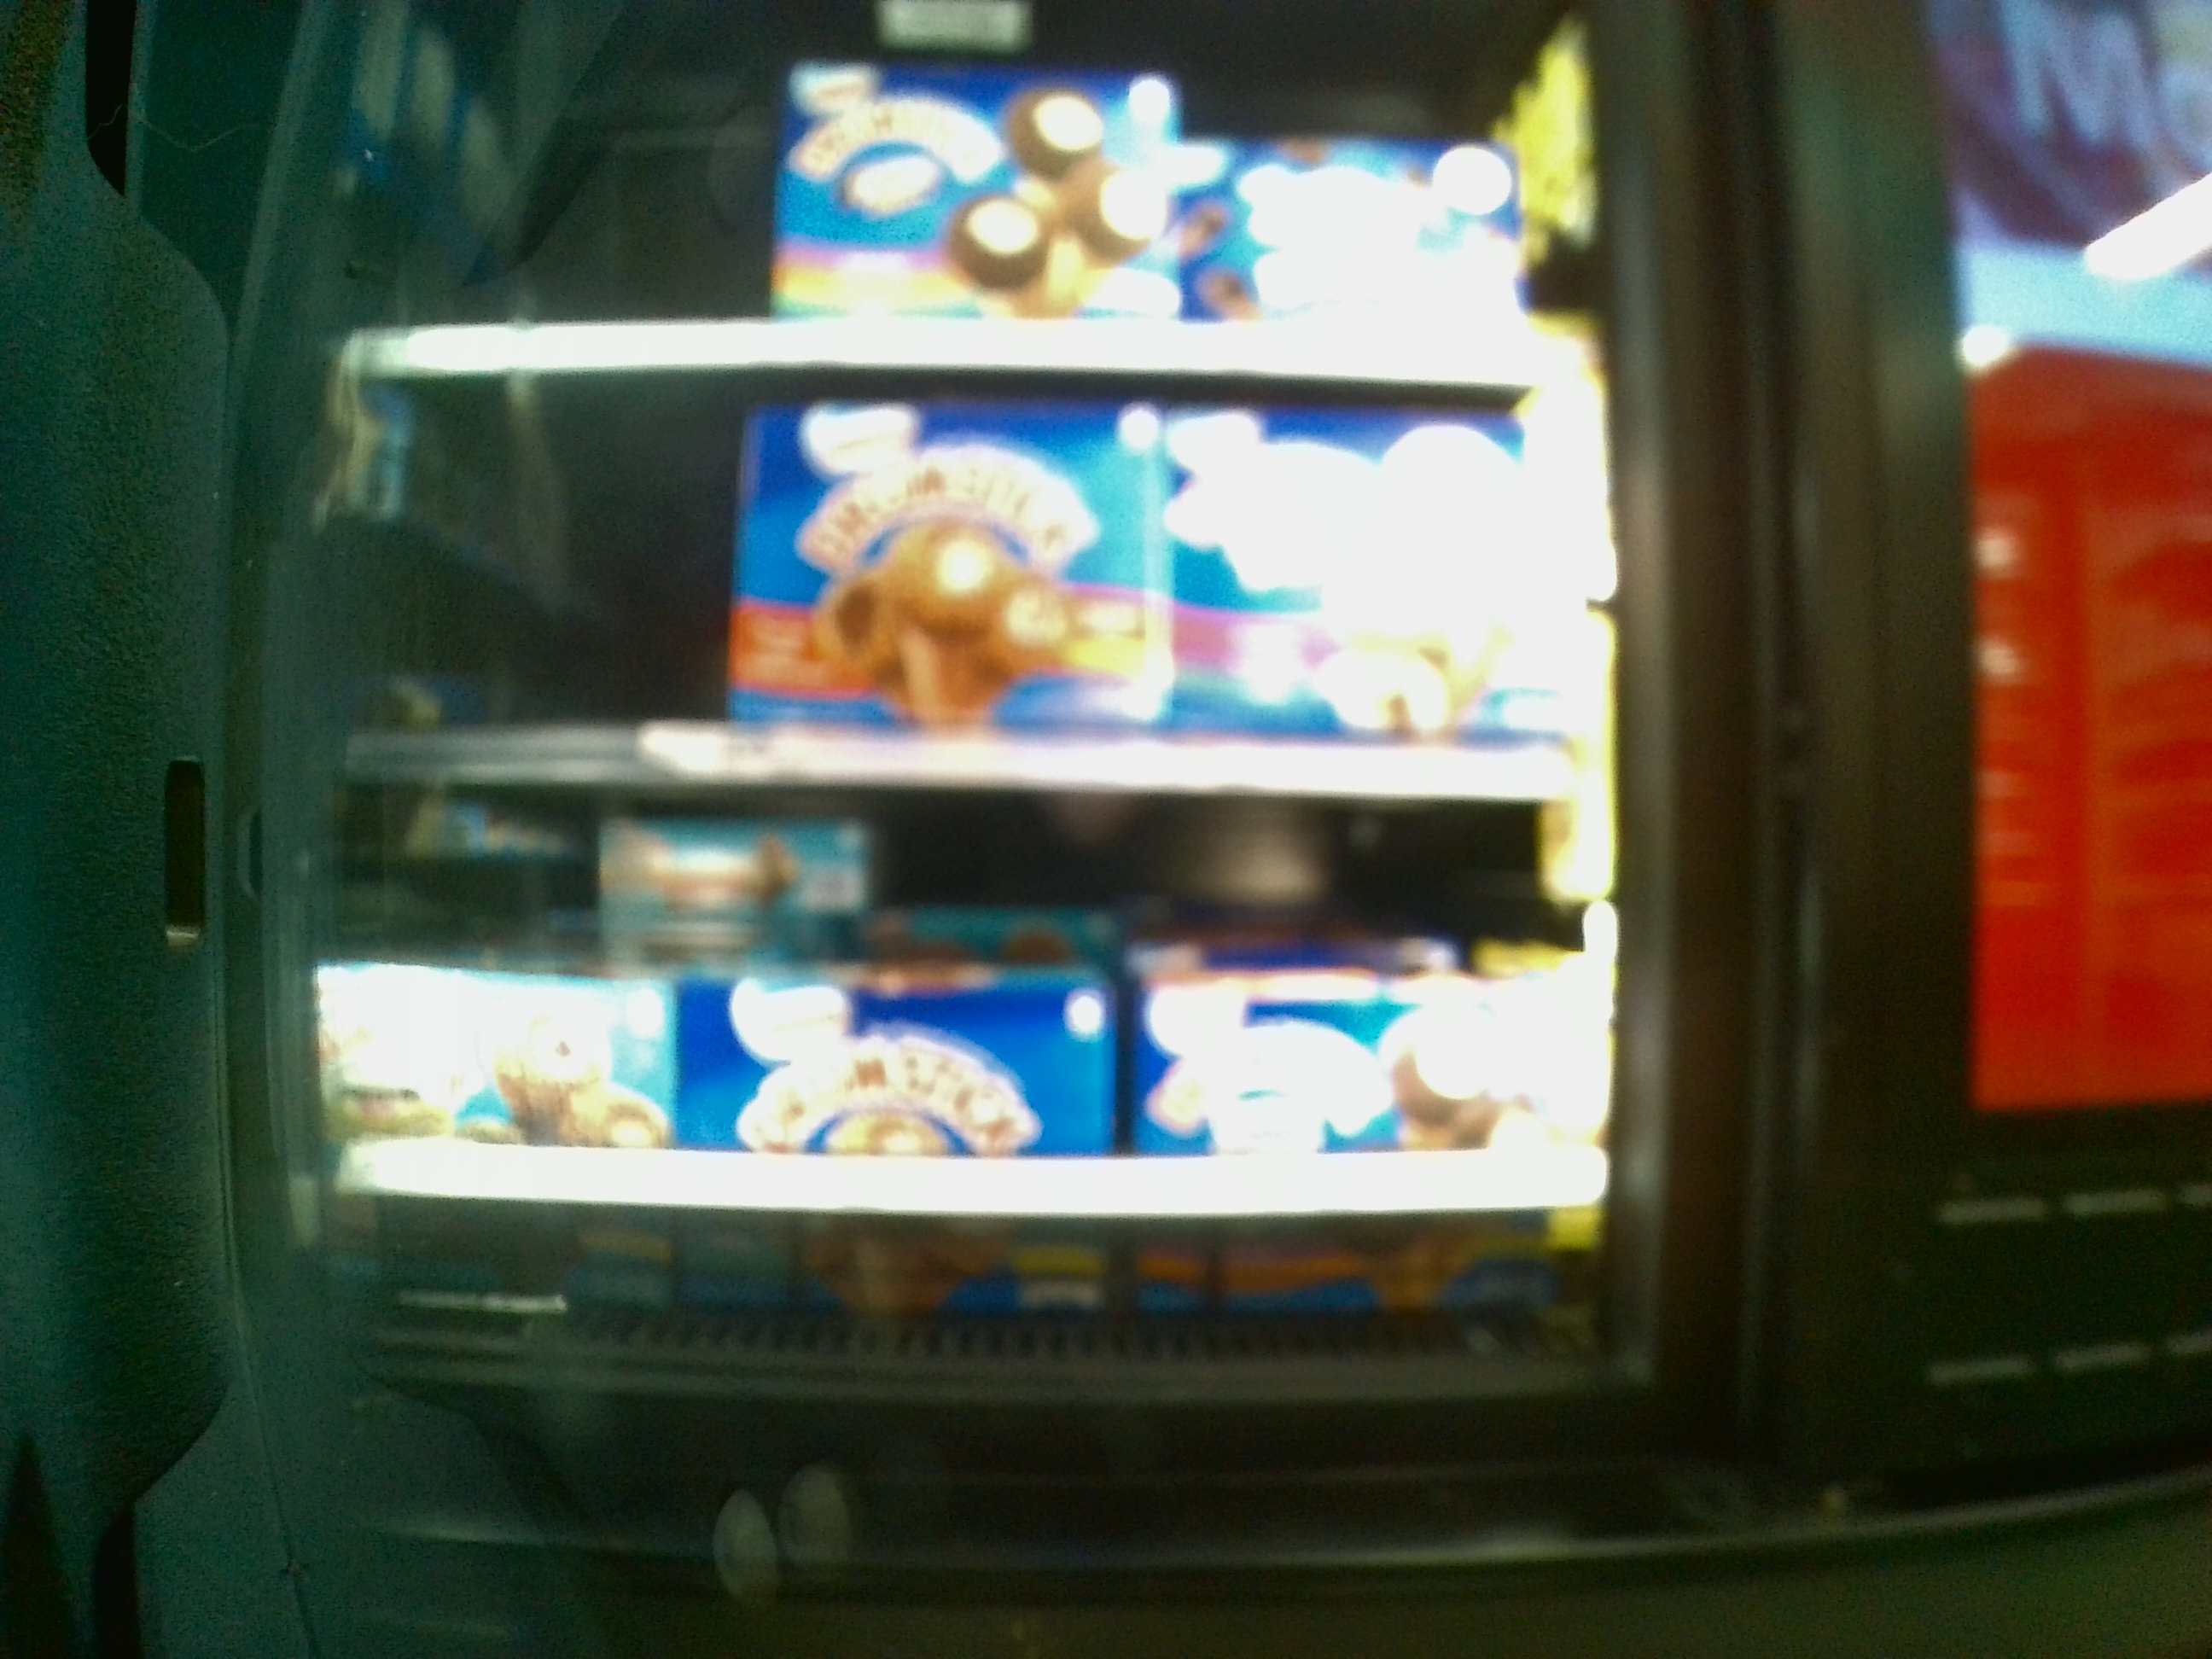shelf: (345, 781, 1599, 1340), (343, 375, 1585, 789), (340, 12, 1585, 375)
